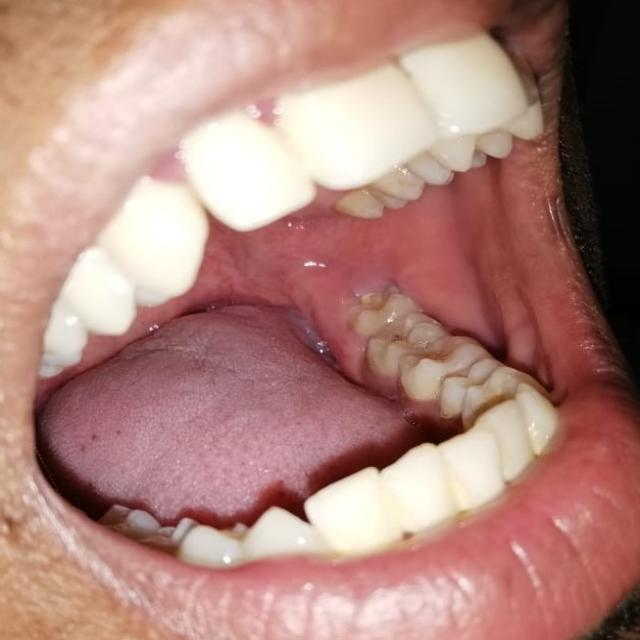No Cancer: (102, 333, 520, 521)
